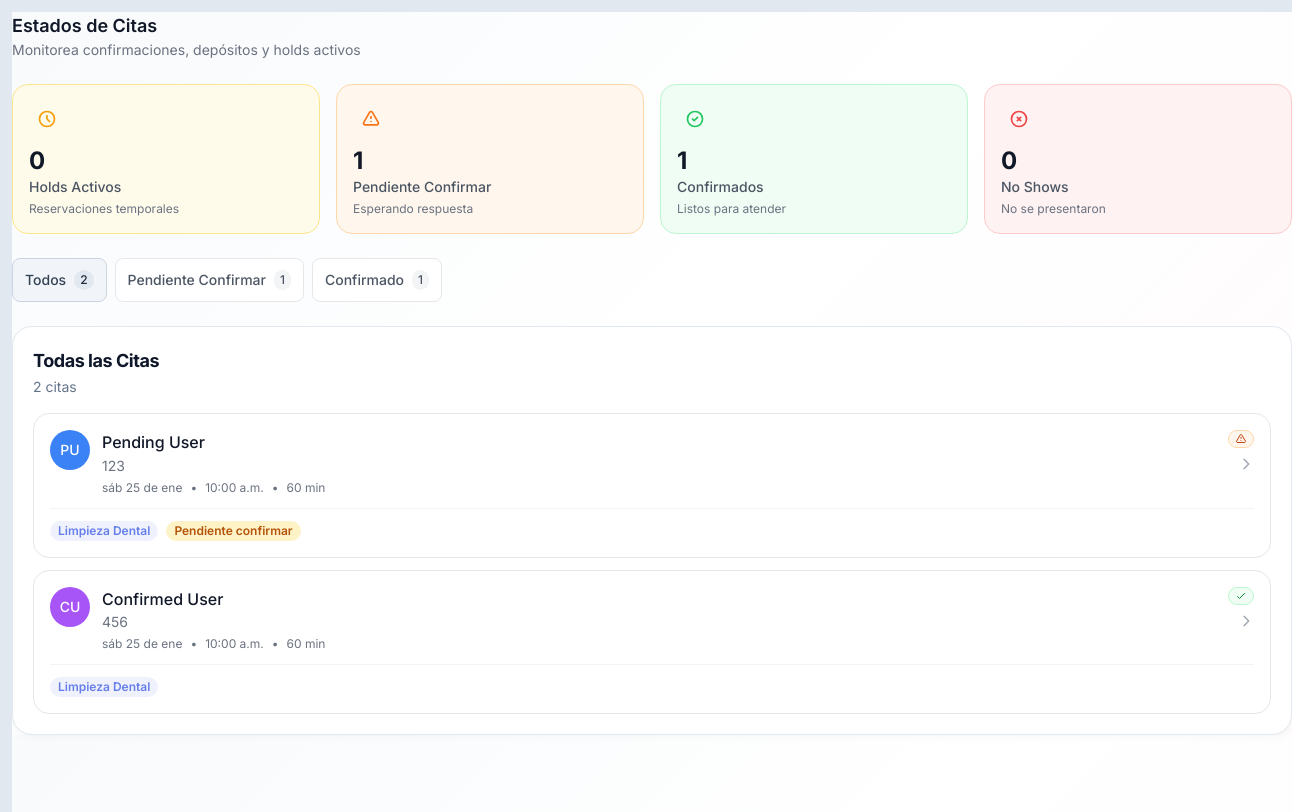
Scenario: EstadosTab › Filter Functionality › filters appointments when clicking a filter button
Note: Click on "Confirmado" filter within the filter group
Click the button "Confirmado 1". click: click(377, 280)
box: [312,258,442,302]
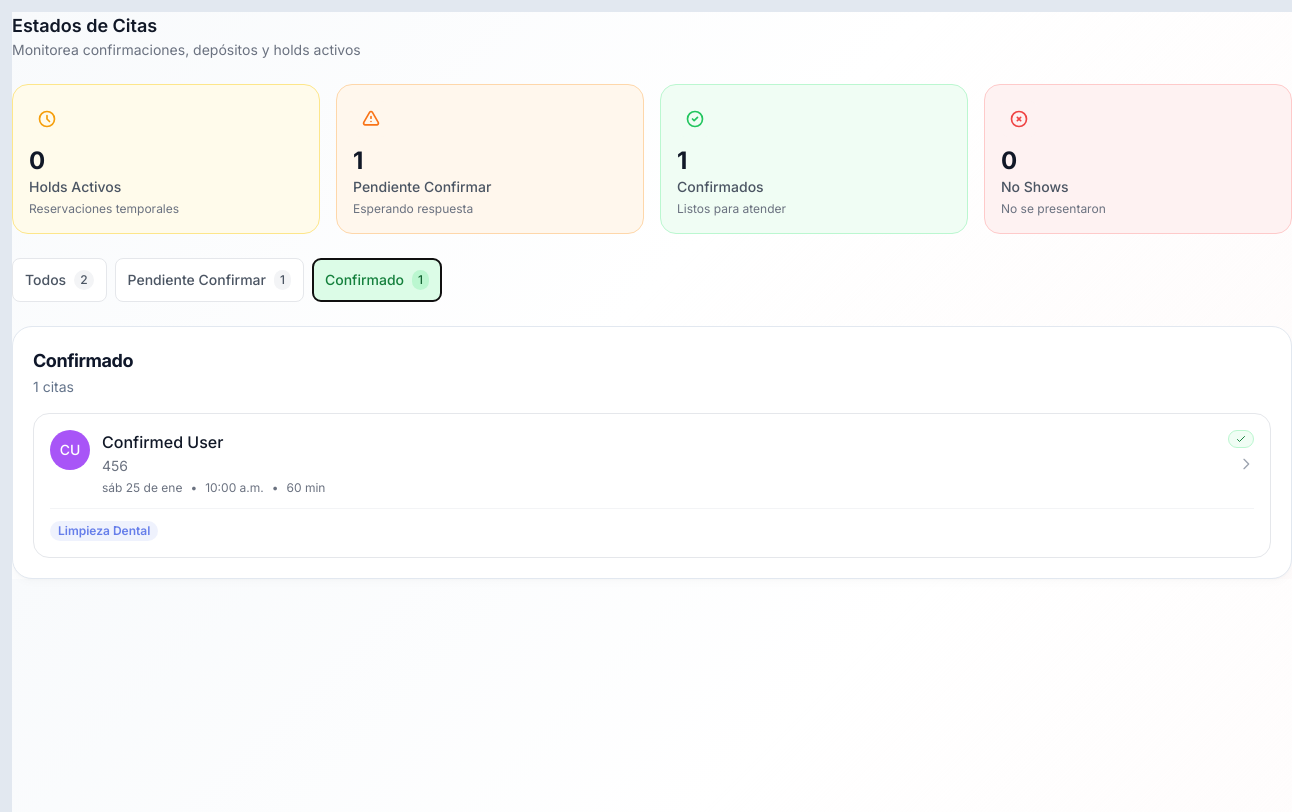
Expected: the text "Confirmed User" is shown, [102,432,223,452]
Expected: the button "Pending User" is gone
